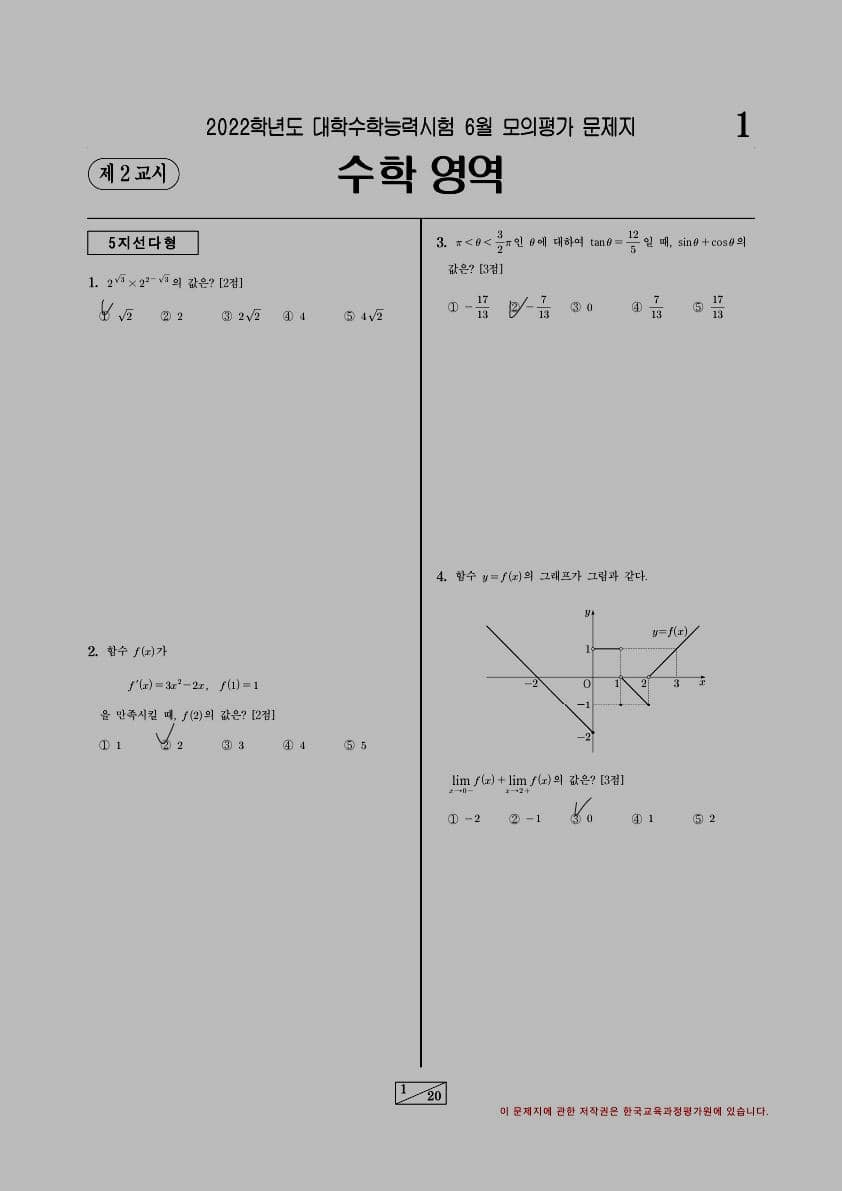question: (420, 558, 735, 842), (68, 632, 387, 771), (425, 223, 760, 339), (69, 261, 397, 339)
